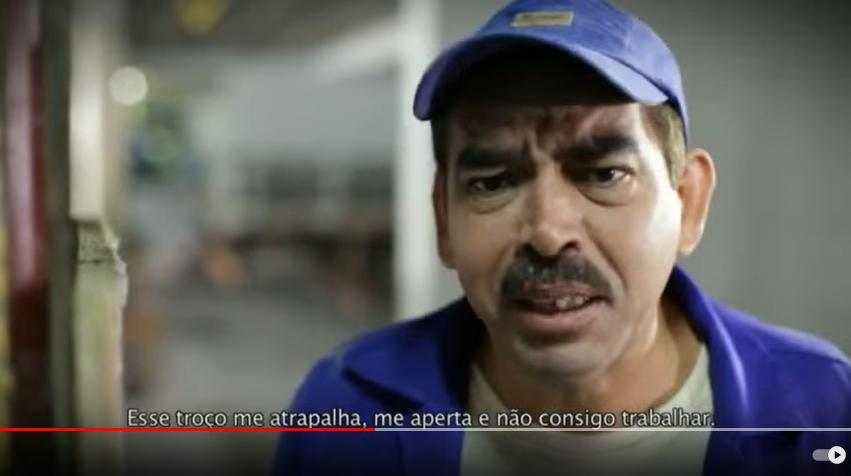not_helmet: (410, 0, 716, 374)
not_reflective: (276, 296, 851, 476)
